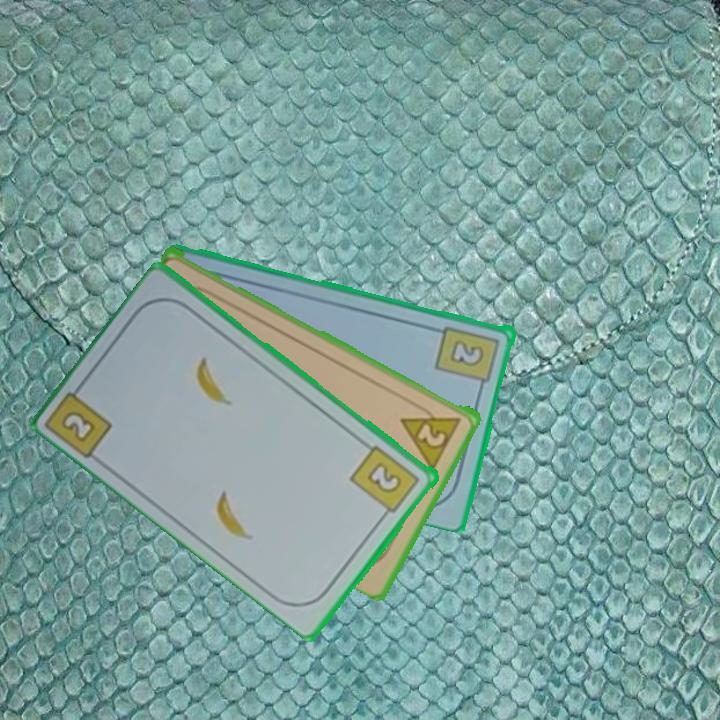2b: (347, 441, 423, 522), (433, 322, 503, 394), (58, 407, 100, 445)
2p: (397, 399, 466, 471)
